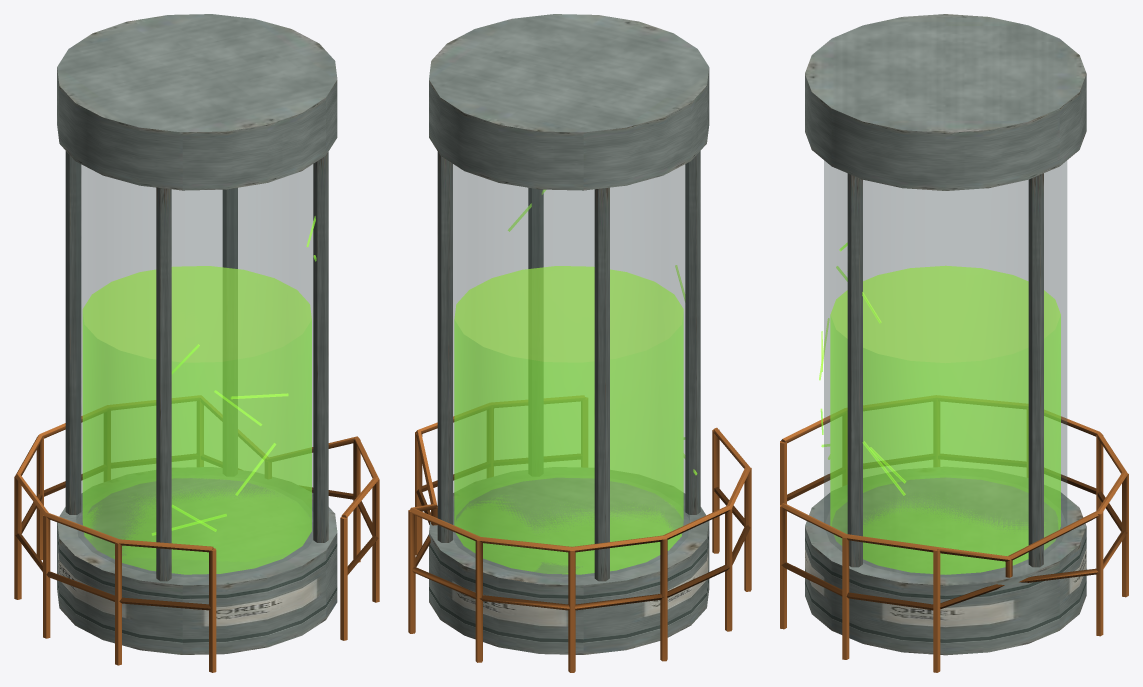
Rendered from big_tank_cracked.glb.
The picture shows the model from 3 angles, left to right: view 1: azimuth 30°, elevation 25°; view 2: azimuth 150°, elevation 25°; view 3: azimuth 270°, elevation 25°; orthographic projection.
Parts seen in each view (by area): view 1: BigTankCracked; view 2: BigTankCracked; view 3: BigTankCracked.
Part boxes in pixels (box(x1,y1,x2,y2)): BigTankCracked: box(14, 14, 379, 672); BigTankCracked: box(408, 14, 751, 672); BigTankCracked: box(780, 14, 1128, 672).
Size of the model in its own units: 2.85 by 4.5 by 2.72.
Materials: 4 (1 with a texture image).
